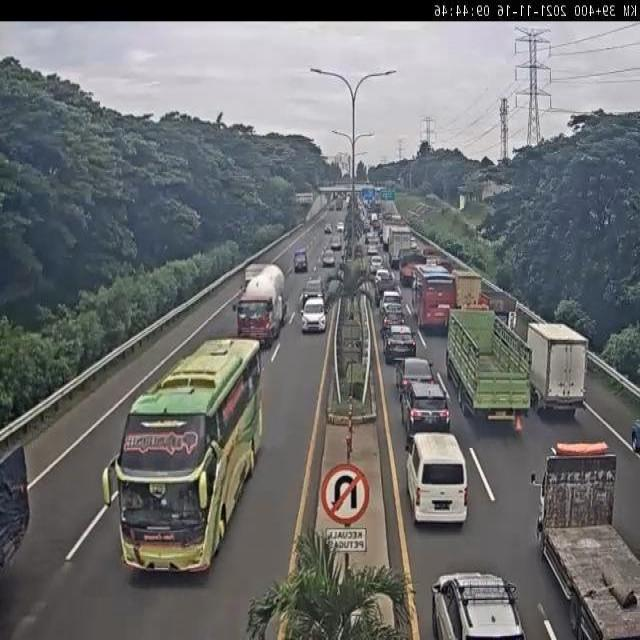Bus: (102, 340, 262, 576), (412, 265, 458, 332)
Car: (430, 570, 528, 640), (397, 381, 450, 436), (382, 324, 415, 364), (393, 357, 436, 387), (300, 297, 328, 333), (301, 276, 325, 302), (294, 248, 308, 272), (322, 250, 336, 267), (370, 254, 383, 270), (330, 236, 342, 251), (367, 243, 377, 256), (337, 222, 344, 232)
Truck: (529, 442, 640, 640), (448, 308, 532, 420), (527, 324, 587, 416), (232, 264, 286, 344), (388, 226, 413, 264)
Van: (406, 433, 468, 528)
